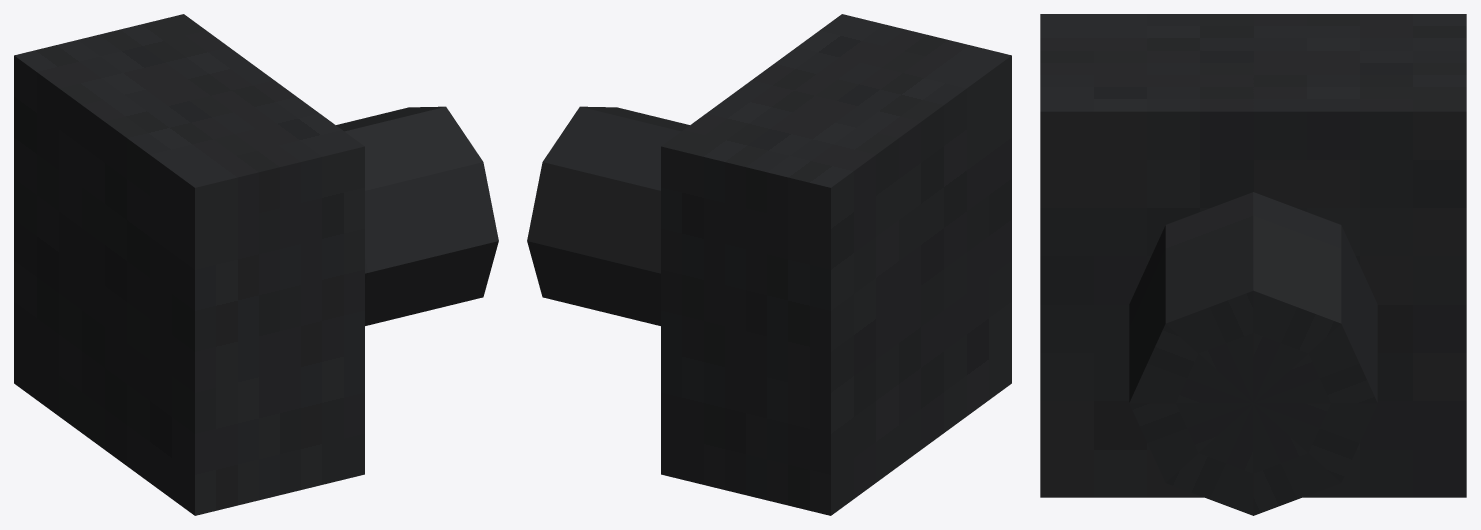
Rendered from decopole_lawestwood_mount_w.obj.
3 renders of one model, left to right at view 1: azimuth 30°, elevation 25°; view 2: azimuth 150°, elevation 25°; view 3: azimuth 270°, elevation 25°, orthographic. The views are drawn at different scales.
Parts seen in each view (by area): view 1: decopole_lawestwood_mount_w; view 2: decopole_lawestwood_mount_w; view 3: decopole_lawestwood_mount_w.
Part boxes in pixels (box(x1,y1,x2,y2)): decopole_lawestwood_mount_w: box(14, 14, 498, 515); decopole_lawestwood_mount_w: box(527, 14, 1011, 515); decopole_lawestwood_mount_w: box(1040, 14, 1466, 515).
Bounding box in the file's own units: 0.3269 × 0.3 × 0.3.
